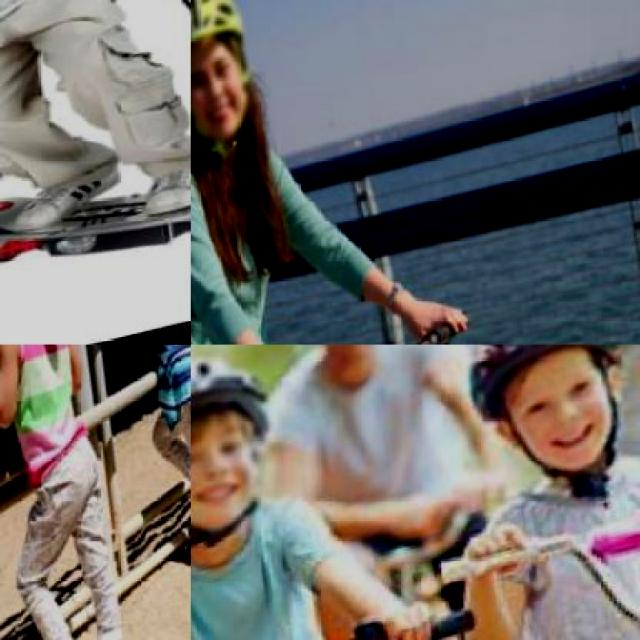With Helmet: (432, 344, 638, 522), (191, 345, 314, 566), (190, 0, 283, 158)
